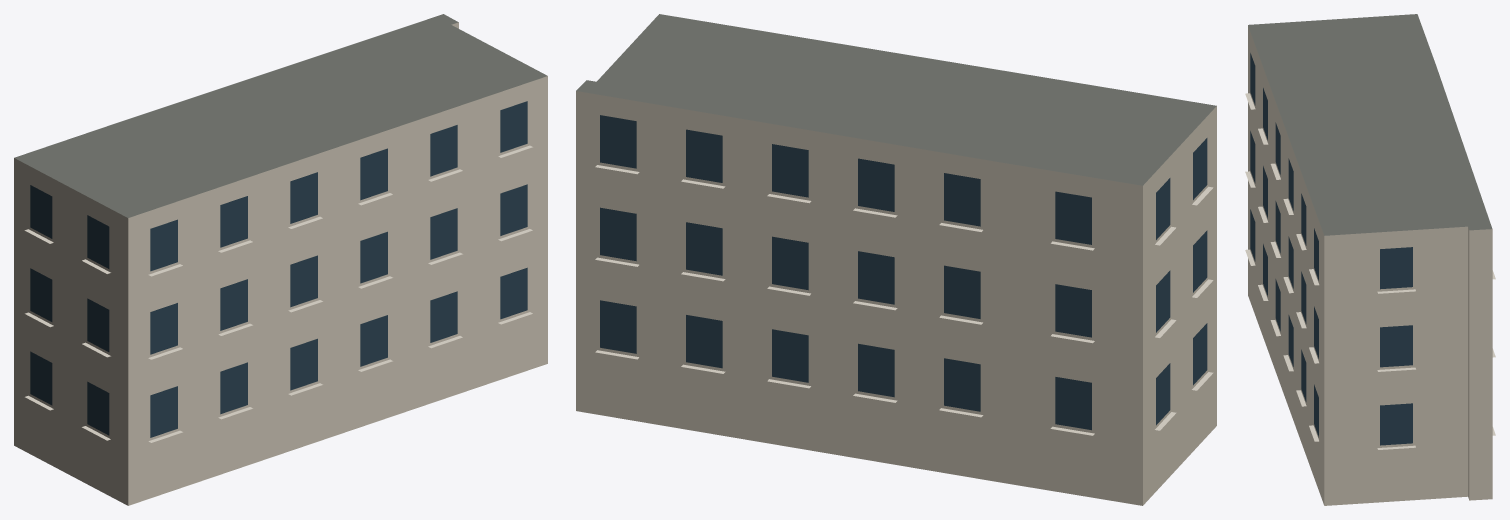
3 views of the same model, side by side, from view 1: azimuth 30°, elevation 25°; view 2: azimuth 150°, elevation 25°; view 3: azimuth 270°, elevation 25° (orthographic). The views are drawn at different scales.
Visible parts, largest first — view 1: Footprint 0, Inferred window bays, Window sills; view 2: Footprint 0, Inferred window bays, Window sills; view 3: Footprint 0, Inferred window bays, Window sills.
Boxes of the visible parts, x1,y1,x2,y2 form: Footprint 0: [14, 14, 547, 505]; Inferred window bays: [30, 101, 527, 437]; Window sills: [24, 145, 532, 442]; Footprint 0: [576, 14, 1216, 505]; Inferred window bays: [600, 115, 1207, 430]; Window sills: [595, 165, 1213, 435]; Footprint 0: [1248, 14, 1492, 505]; Inferred window bays: [1250, 53, 1412, 445]; Window sills: [1245, 93, 1495, 449].
Size of the model in its own units: 19.7 by 11.13 by 9.37.
